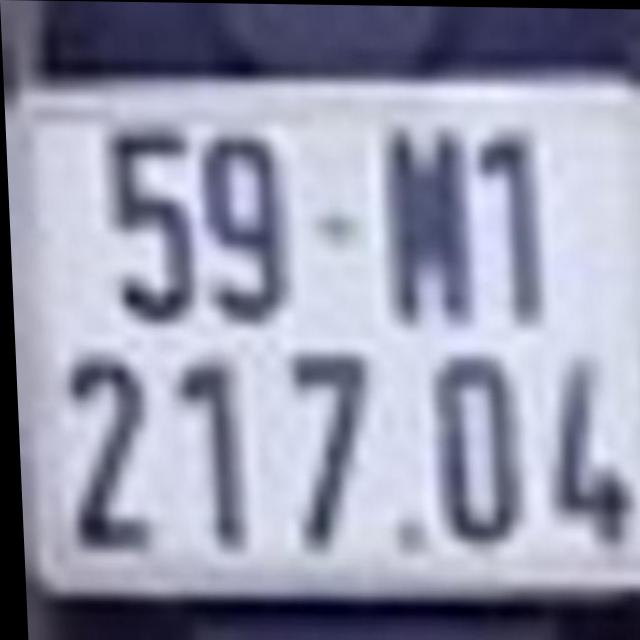0: (431, 353, 514, 541)
1: (477, 126, 541, 320), (177, 356, 241, 547)
2: (65, 360, 146, 548)
4: (547, 352, 633, 543)
5: (111, 133, 196, 319)
7: (288, 350, 369, 547)
9: (199, 133, 284, 322)
M: (385, 122, 471, 326)
